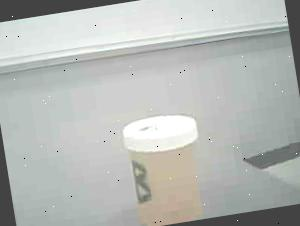Bottle B: (111, 104, 218, 226)
